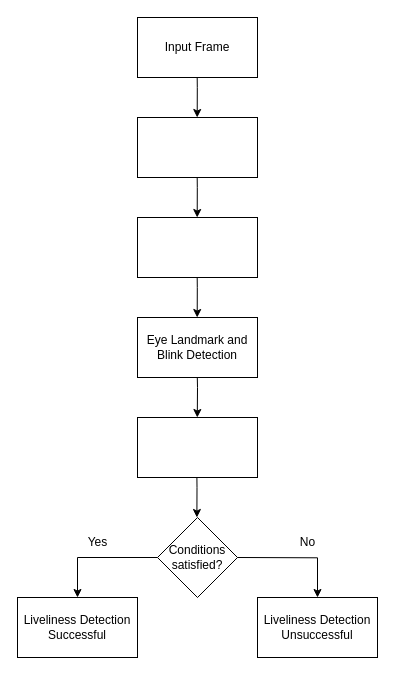
The diagram is 395 pixels wide and 675 high, and some of its shapes have lost their labels. Each missing label, with the box of its shape:
Blurriness Check: (136, 216, 258, 278)
Face Detection: (136, 116, 258, 178)
Head Movement Detection: (136, 416, 258, 478)
